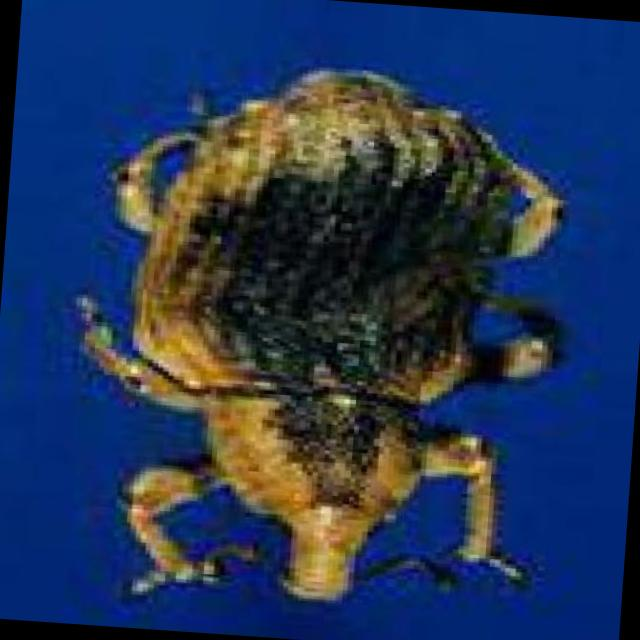rice-bug: (72, 52, 594, 622)
